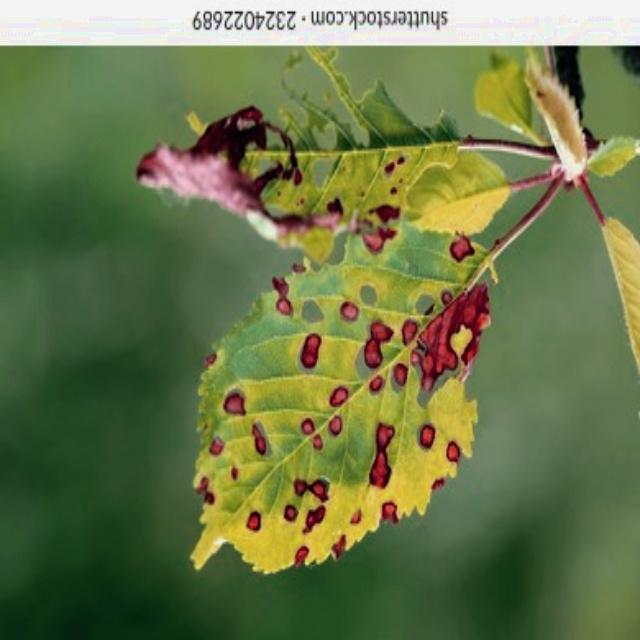leaf_spot: (111, 234, 523, 590)
